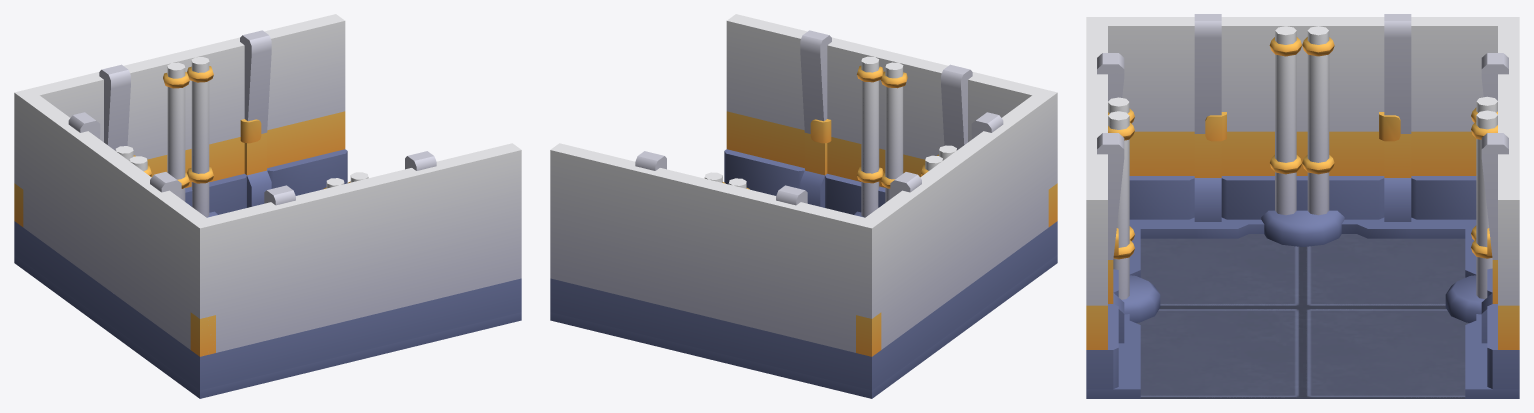
File: kenney-space-corridor-wide-end.glb
The picture shows the model from 3 angles, left to right: view 1: azimuth 30°, elevation 25°; view 2: azimuth 150°, elevation 25°; view 3: azimuth 270°, elevation 25°; orthographic projection. The views are drawn at different scales.
Parts seen in each view (by area): view 1: corridor-wide-end; view 2: corridor-wide-end; view 3: corridor-wide-end.
Part boxes in pixels (bbox=[...]): corridor-wide-end: bbox=[14, 14, 521, 398]; corridor-wide-end: bbox=[550, 14, 1057, 398]; corridor-wide-end: bbox=[1086, 14, 1519, 398].
Bounding box in the file's own units: 6 × 3.19 × 6.
1 material, 1 textured.
